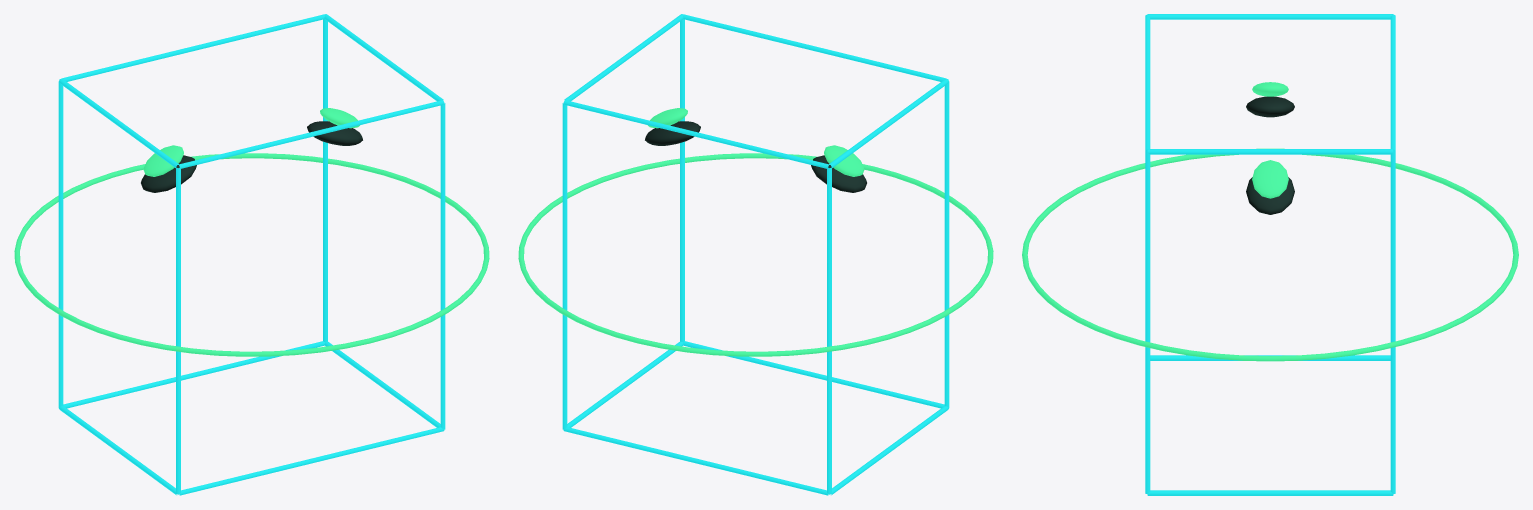
File: avatar-verdejante-kit-arquiteto.glb
3 renders of one model, left to right at view 1: azimuth 30°, elevation 25°; view 2: azimuth 150°, elevation 25°; view 3: azimuth 270°, elevation 25°, orthographic. The views are drawn at different scales.
Parts seen in each view (by area): view 1: kit_verdejante_arquiteto_techRing, kit_verdejante_arquiteto_labFrame10, kit_verdejante_arquiteto_labFrame08, kit_verdejante_arquiteto_labFrame11, kit_verdejante_arquiteto_labFrame06, kit_verdejante_arquiteto_labFrame02, kit_verdejante_arquiteto_labFrame04, kit_verdejante_arquiteto_labFrame09, kit_verdejante_arquiteto_labFrame00, kit_verdejante_arquiteto_maturePlateAR, kit_verdejante_arquiteto_labFrame07, kit_verdejante_arquiteto_labFrame05 (+4 smaller); view 2: kit_verdejante_arquiteto_techRing, kit_verdejante_arquiteto_labFrame09, kit_verdejante_arquiteto_labFrame11, kit_verdejante_arquiteto_labFrame08, kit_verdejante_arquiteto_labFrame04, kit_verdejante_arquiteto_labFrame00, kit_verdejante_arquiteto_labFrame06, kit_verdejante_arquiteto_labFrame10, kit_verdejante_arquiteto_labFrame02, kit_verdejante_arquiteto_maturePlateAR, kit_verdejante_arquiteto_labFrame07, kit_verdejante_arquiteto_labFrame05 (+4 smaller); view 3: kit_verdejante_arquiteto_techRing, kit_verdejante_arquiteto_labFrame09, kit_verdejante_arquiteto_labFrame10, kit_verdejante_arquiteto_labFrame05, kit_verdejante_arquiteto_labFrame01, kit_verdejante_arquiteto_labFrame07, kit_verdejante_arquiteto_maturePlateBL, kit_verdejante_arquiteto_maturePlateAL, kit_verdejante_arquiteto_maturePlateAR, kit_verdejante_arquiteto_labFrame03, kit_verdejante_arquiteto_labFrame04, kit_verdejante_arquiteto_labFrame06.
Boxes of the visible parts, box(x1,y1,x2,y2) form: kit_verdejante_arquiteto_techRing: box(14, 153, 489, 356); kit_verdejante_arquiteto_labFrame10: box(440, 103, 445, 429); kit_verdejante_arquiteto_labFrame08: box(58, 82, 63, 407); kit_verdejante_arquiteto_labFrame11: box(176, 167, 180, 494); kit_verdejante_arquiteto_labFrame06: box(178, 100, 444, 168); kit_verdejante_arquiteto_labFrame02: box(179, 427, 444, 495); kit_verdejante_arquiteto_labFrame04: box(61, 14, 325, 81); kit_verdejante_arquiteto_labFrame09: box(323, 19, 327, 341); kit_verdejante_arquiteto_labFrame00: box(63, 341, 324, 408); kit_verdejante_arquiteto_maturePlateAR: box(141, 155, 196, 192); kit_verdejante_arquiteto_labFrame07: box(58, 79, 178, 167); kit_verdejante_arquiteto_labFrame05: box(324, 14, 443, 101); kit_verdejante_arquiteto_techRing: box(518, 153, 993, 356); kit_verdejante_arquiteto_labFrame09: box(562, 103, 567, 429); kit_verdejante_arquiteto_labFrame11: box(944, 82, 949, 407); kit_verdejante_arquiteto_labFrame08: box(827, 167, 831, 494); kit_verdejante_arquiteto_labFrame04: box(563, 100, 829, 168); kit_verdejante_arquiteto_labFrame00: box(563, 427, 828, 495); kit_verdejante_arquiteto_labFrame06: box(682, 14, 946, 81); kit_verdejante_arquiteto_labFrame10: box(680, 19, 684, 341); kit_verdejante_arquiteto_labFrame02: box(683, 341, 944, 408); kit_verdejante_arquiteto_maturePlateAR: box(811, 155, 866, 192); kit_verdejante_arquiteto_labFrame07: box(829, 79, 949, 167); kit_verdejante_arquiteto_labFrame05: box(564, 14, 683, 101); kit_verdejante_arquiteto_techRing: box(1022, 148, 1518, 361); kit_verdejante_arquiteto_labFrame09: box(1390, 152, 1395, 494); kit_verdejante_arquiteto_labFrame10: box(1145, 152, 1150, 494); kit_verdejante_arquiteto_labFrame05: box(1147, 149, 1393, 154); kit_verdejante_arquiteto_labFrame01: box(1147, 490, 1393, 495); kit_verdejante_arquiteto_labFrame07: box(1148, 14, 1392, 19); kit_verdejante_arquiteto_maturePlateBL: box(1252, 160, 1288, 198); kit_verdejante_arquiteto_maturePlateAL: box(1246, 177, 1294, 214); kit_verdejante_arquiteto_maturePlateAR: box(1246, 96, 1294, 117); kit_verdejante_arquiteto_labFrame03: box(1150, 355, 1390, 360); kit_verdejante_arquiteto_labFrame04: box(1390, 14, 1395, 150); kit_verdejante_arquiteto_labFrame06: box(1145, 14, 1150, 150).
Bounding box in the file's own units: 1.21 × 0.934 × 1.21.
